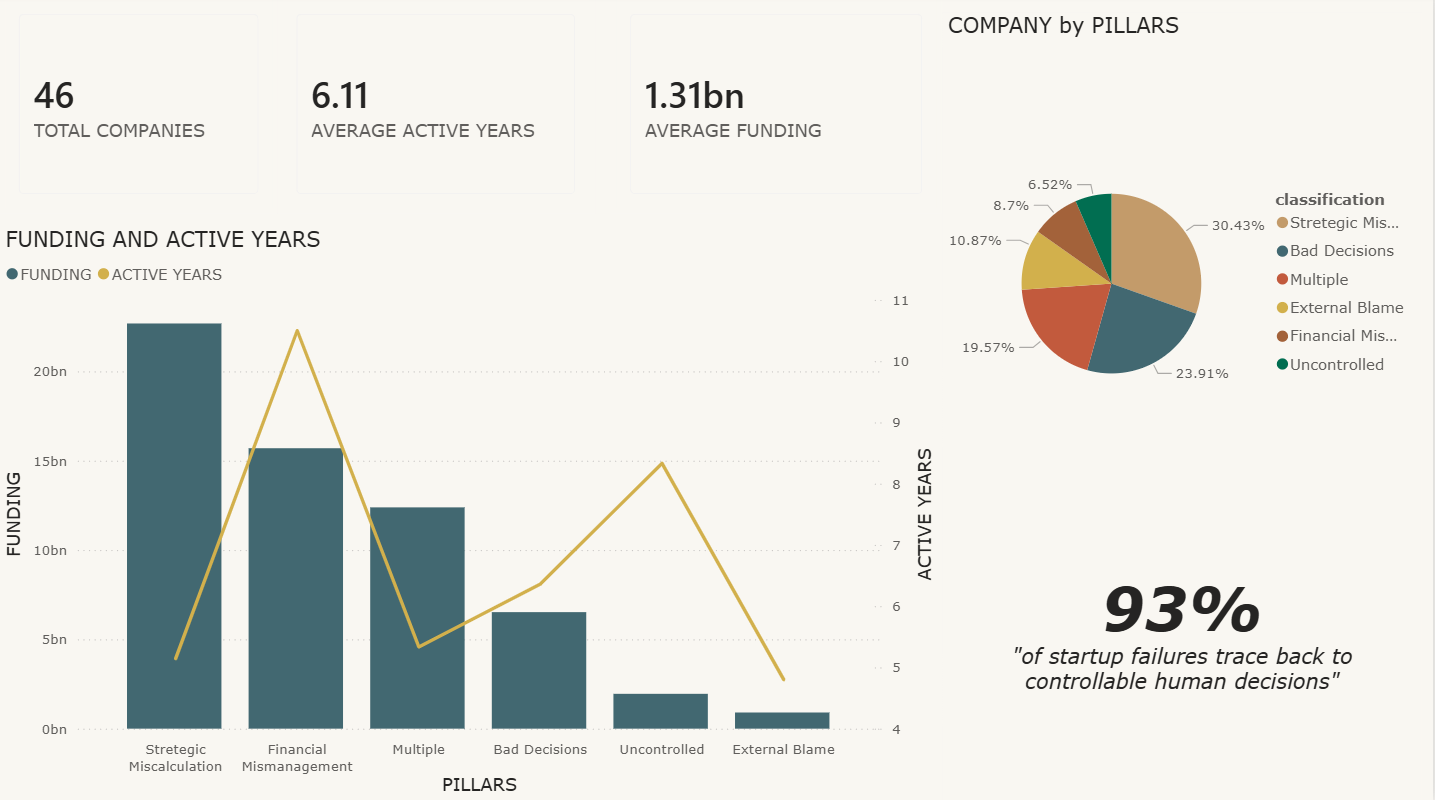

The page's visual inventory and layout, read from the dashboard file:
{"tool":"powerbi","page":{"name":"Page 1","canvas":[1280,720],"ordinal":0},"visuals":[{"type":"cardVisual","fields":{"Data":["Count(Final dataset for visualiation.company_name)"]},"box":[0,0,248.2,195.3],"z":0},{"type":"lineStackedColumnComboChart","title":"FUNDING AND ACTIVE YEARS ","fields":{"Y":["Sum(Final dataset for visualiation.int_funding)"],"Category":["Final dataset for visualiation.classification"],"Y2":["Avg(Final dataset for visualiation.active_years)"]},"box":[0,207.1,842.4,512.9],"z":5000},{"type":"pieChart","title":"COMPANY by PILLARS","fields":{"Category":["Final dataset for visualiation.classification"],"Y":["Count(Final dataset for visualiation.company_name)"]},"box":[842.4,15.3,428.2,462.4],"z":7001},{"type":"textbox","box":[842.4,477.6,428.2,242.4],"z":7002},{"type":"cardVisual","fields":{"Data":["Avg(Final dataset for visualiation.active_years)"]},"box":[247.7,0,283.7,195.3],"z":7003},{"type":"cardVisual","fields":{"Data":["Avg(Final dataset for visualiation.int_funding)"]},"box":[546.5,0,295.3,195.3],"z":7004}]}

Visuals, with their boxes in screenshot pixels (x1, y1, x2, y2), scaled from the page's 1280x720 canvas onto the 1435x800 screenshot:
cardVisual - Count(Final dataset for visualiation.company_name): (x1=0, y1=0, x2=278, y2=217)
"FUNDING AND ACTIVE YEARS " lineStackedColumnComboChart: (x1=0, y1=230, x2=944, y2=799)
"COMPANY by PILLARS" pieChart: (x1=944, y1=17, x2=1424, y2=531)
textbox: (x1=944, y1=531, x2=1424, y2=799)
cardVisual - Avg(Final dataset for visualiation.active_years): (x1=278, y1=0, x2=596, y2=217)
cardVisual - Avg(Final dataset for visualiation.int_funding): (x1=613, y1=0, x2=944, y2=217)
